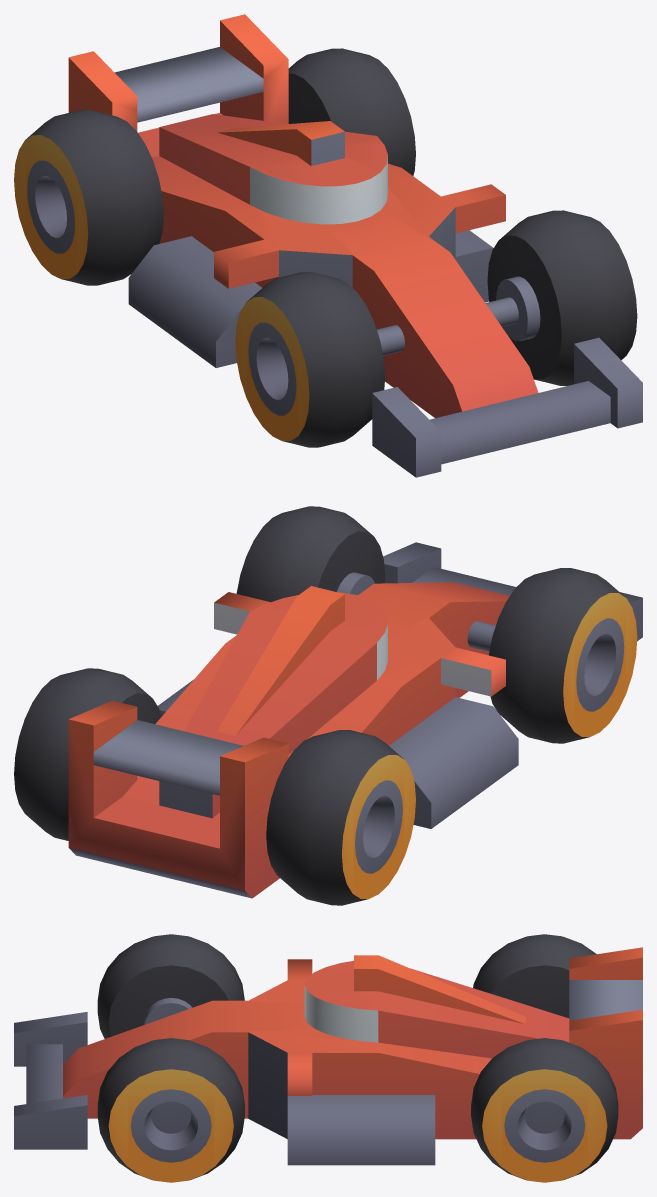
Rendered from race.glb.
3 renders of one model, top to bottom at view 1: azimuth 30°, elevation 25°; view 2: azimuth 150°, elevation 25°; view 3: azimuth 270°, elevation 25°, orthographic. The views are drawn at different scales.
Parts seen in each view (by area): view 1: body; view 2: body; view 3: body.
Part boxes in pixels (bbox=[...]): body: bbox=[14, 14, 642, 477]; body: bbox=[14, 506, 642, 905]; body: bbox=[14, 934, 642, 1182].
Size of the model in its own units: 1.3 by 0.7325 by 2.56.
1 material, 1 textured.
